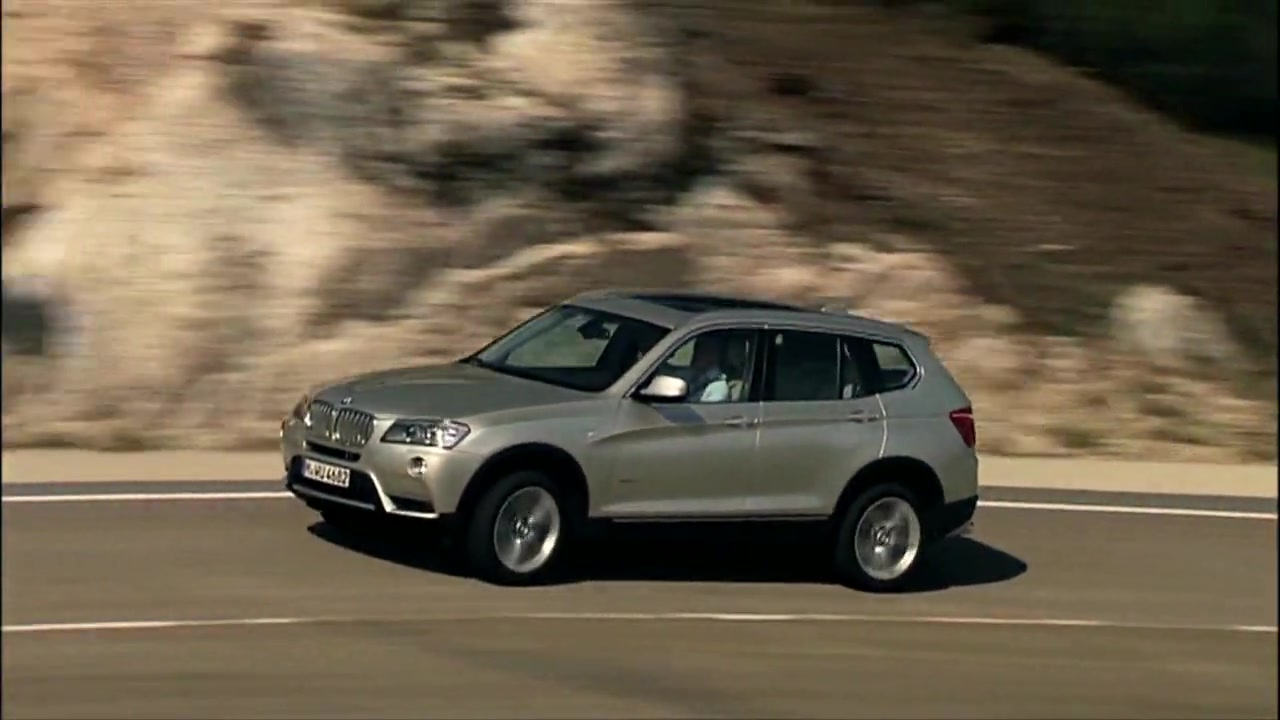car: (277, 289, 986, 596)
